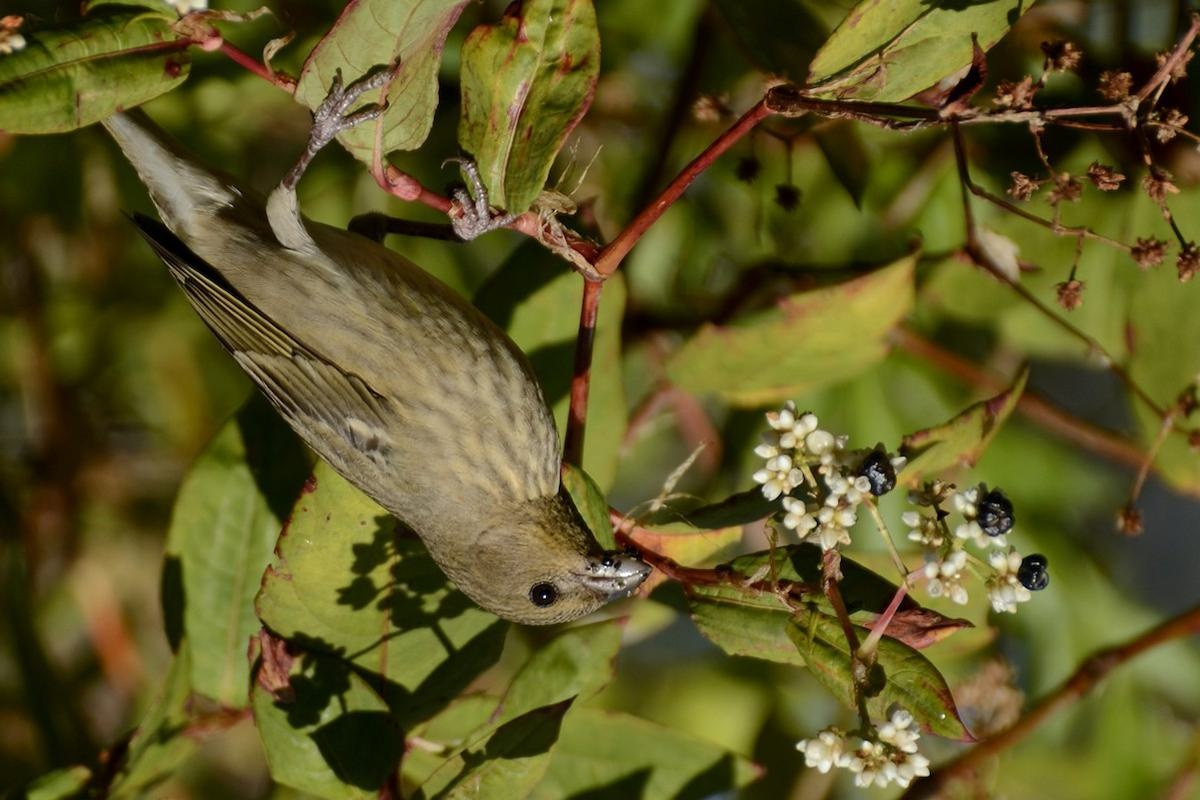rosefinch: (87, 95, 667, 618)
